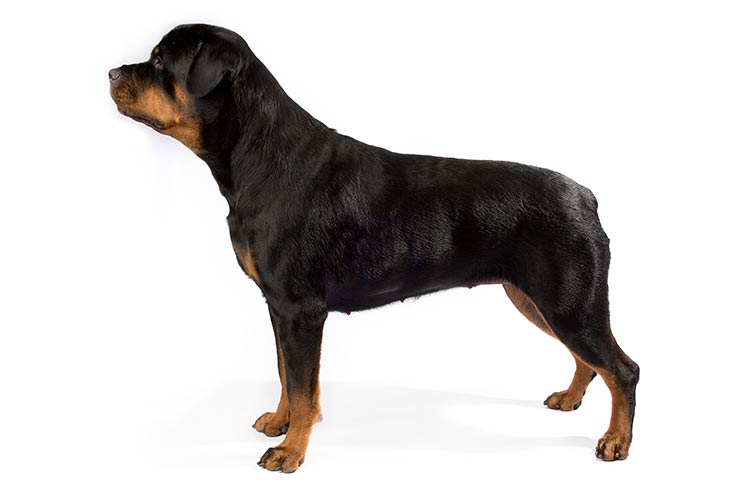dog: (103, 23, 643, 485)
